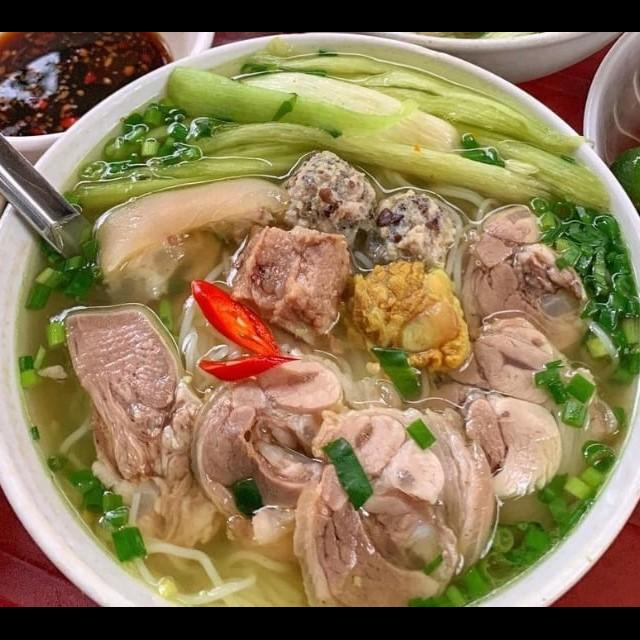bun: (170, 250, 403, 420), (119, 488, 311, 608)
bun moc: (0, 74, 640, 607)
thit heo: (282, 398, 505, 608), (58, 304, 232, 564), (185, 352, 376, 570), (424, 316, 623, 514), (461, 204, 597, 366), (222, 220, 357, 352)
vien moc: (350, 184, 466, 284), (268, 146, 381, 242)
